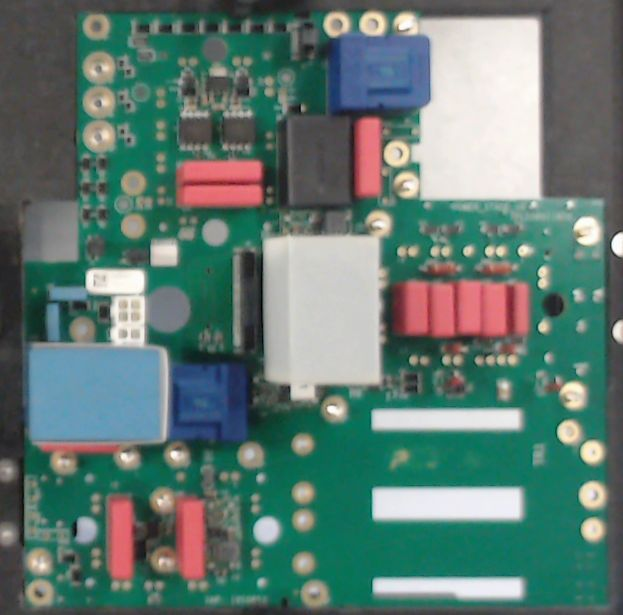comp1: (327, 33, 434, 110), (165, 363, 250, 443)
comp2: (104, 490, 132, 582), (354, 117, 384, 202), (176, 490, 204, 581), (177, 158, 266, 184), (395, 278, 428, 340), (173, 183, 263, 205), (430, 281, 456, 341), (456, 280, 482, 338), (484, 280, 509, 340), (510, 281, 530, 340)
comp3: (280, 115, 354, 208)
comp4: (261, 235, 382, 386), (27, 340, 167, 448)
